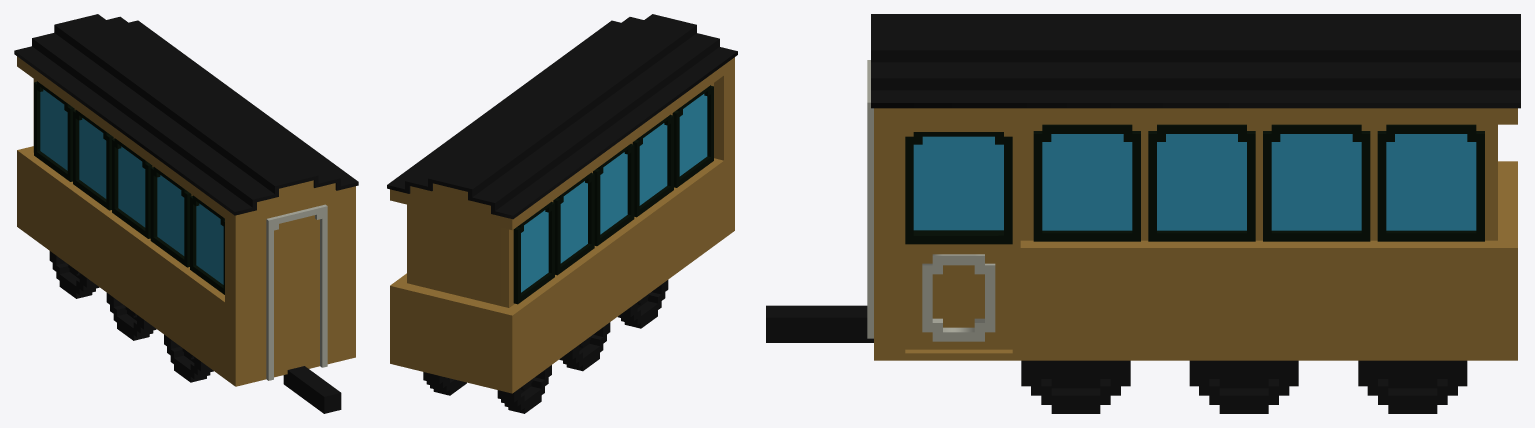
The model's file is Train_vagon_beige.FBX.
3 views of the same model, side by side, from view 1: azimuth 30°, elevation 25°; view 2: azimuth 150°, elevation 25°; view 3: azimuth 270°, elevation 25° (orthographic). The views are drawn at different scales.
Visible parts, largest first — view 1: train_vagon_door001, train_vagon_roof001, Vagon_beige, Box002, train_tire_019, train_tire_021, train_tire_017; view 2: train_vagon_door001, train_vagon_roof001, Vagon_beige, train_tire_019, train_tire_017, train_tire_021, train_tire_018; view 3: train_vagon_door001, Vagon_beige, train_vagon_roof001, train_tire_018, train_tire_020, train_tire_016, Box002.
Part boxes in pixels (x1,y1,x2,y2): train_vagon_door001: [17, 56, 355, 386]; train_vagon_roof001: [14, 14, 358, 215]; Vagon_beige: [34, 81, 327, 380]; Box002: [283, 366, 341, 413]; train_tire_019: [49, 251, 99, 298]; train_tire_021: [106, 293, 156, 340]; train_tire_017: [164, 334, 213, 382]; train_vagon_door001: [390, 57, 734, 393]; train_vagon_roof001: [387, 14, 737, 219]; Vagon_beige: [513, 85, 713, 304]; train_tire_019: [497, 365, 551, 413]; train_tire_017: [618, 280, 668, 328]; train_tire_021: [559, 322, 610, 371]; train_tire_018: [423, 372, 466, 395]; train_vagon_door001: [874, 108, 1517, 360]; Vagon_beige: [867, 60, 1484, 341]; train_vagon_roof001: [871, 14, 1520, 108]; train_tire_018: [1358, 360, 1467, 413]; train_tire_020: [1189, 360, 1298, 413]; train_tire_016: [1021, 360, 1130, 413]; Box002: [766, 305, 873, 342].
Size of the model in its own units: 25.88 by 47.07 by 92.73.
